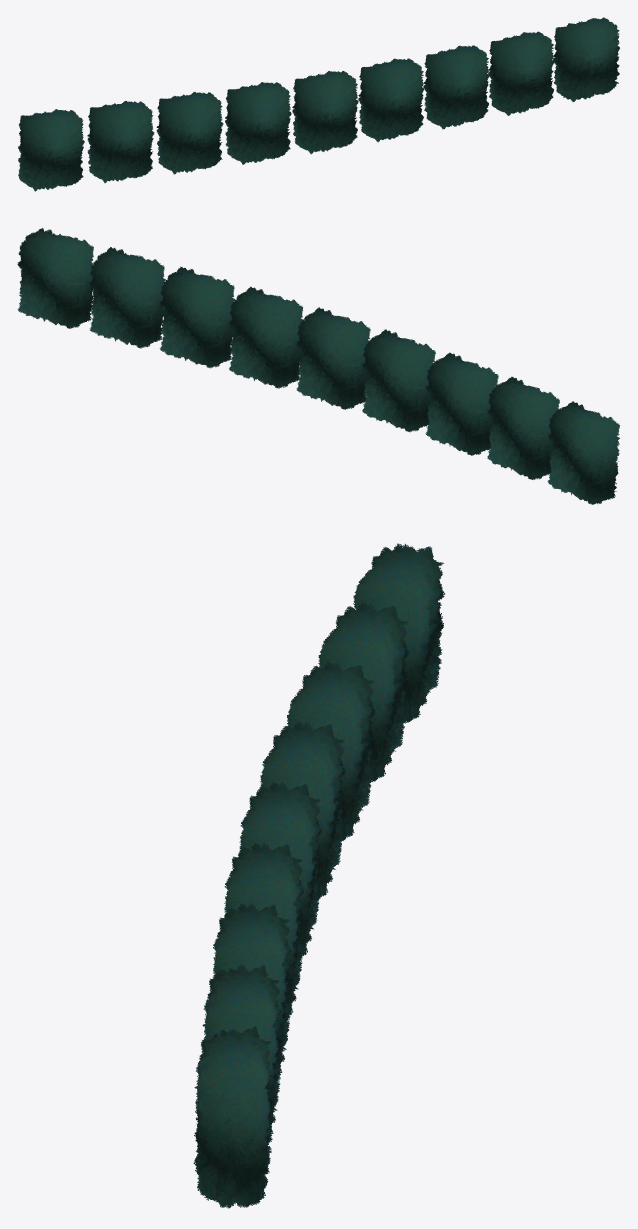
The model's file is SM_Bush05_Splines_33.fbx.
The picture shows the model from 3 angles, top to bottom: view 1: azimuth 30°, elevation 25°; view 2: azimuth 150°, elevation 25°; view 3: azimuth 270°, elevation 25°; orthographic projection. The views are drawn at different scales.
Visible parts, largest first — view 1: SM_Bush05_Splines_33_LOD0; view 2: SM_Bush05_Splines_33_LOD0; view 3: SM_Bush05_Splines_33_LOD0.
Part boxes in pixels (box(x1,y1,x2,y2)): SM_Bush05_Splines_33_LOD0: box(18, 17, 619, 191); SM_Bush05_Splines_33_LOD0: box(17, 228, 619, 504); SM_Bush05_Splines_33_LOD0: box(193, 543, 444, 1208).
Size of the model in its own units: 4512 by 923 by 607.
